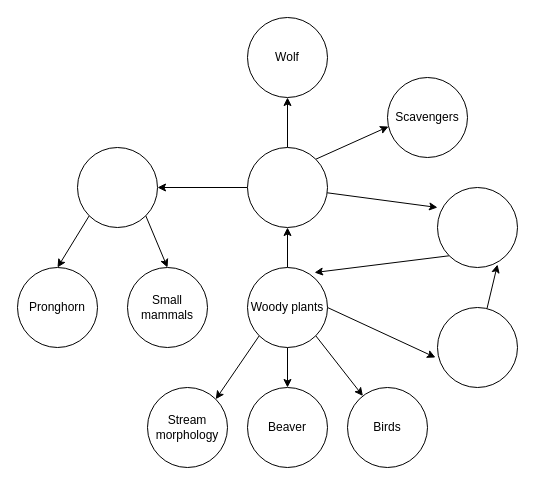
The diagram is 535 pixels wide and 485 high, and some of its shapes have lost their labels. Each missing label, with the centre of its shape:
"Bear" goes at pixel 477 227.
"Berries" goes at pixel 477 347.
"Coyote" goes at pixel 117 187.
"Elk" goes at pixel 287 187.
